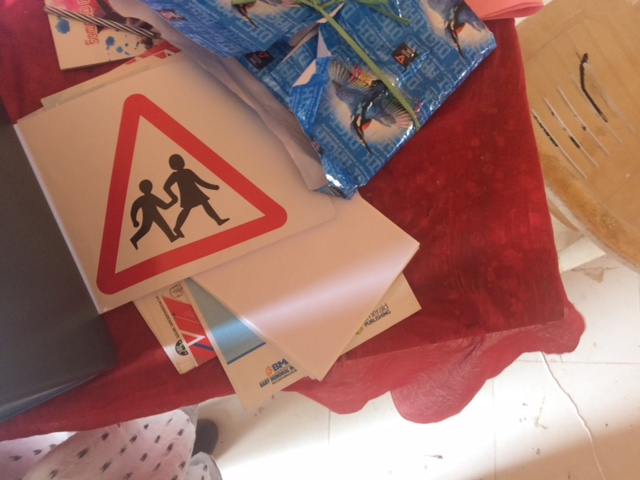sign: (94, 91, 287, 294)
